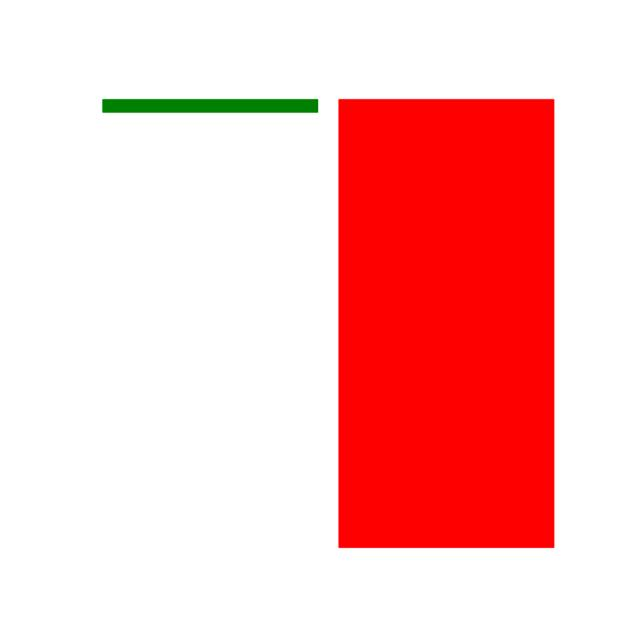Four price doji: (103, 100, 317, 112)
